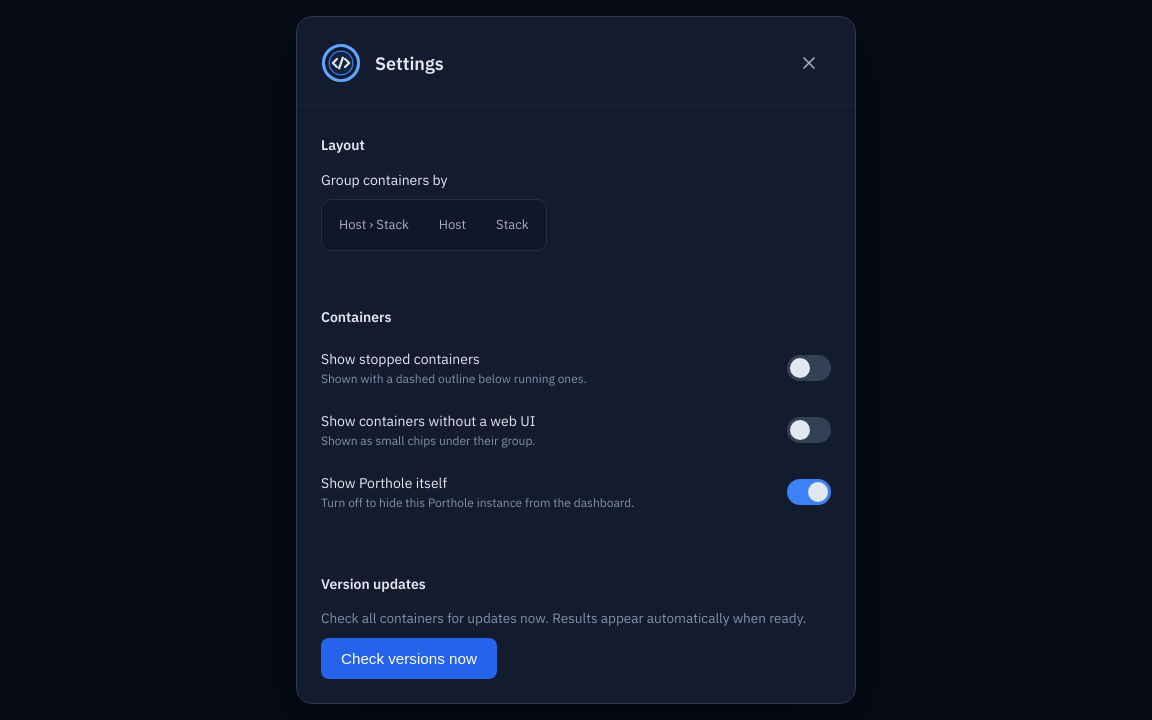
Scenario: AppSettings › shows a retryable error when starting the check fails
This screenshot has width=1152, height=720.
(page scrolled)
Click the button "Check versions now".
click(409, 658)  # box [321,638,497,679]
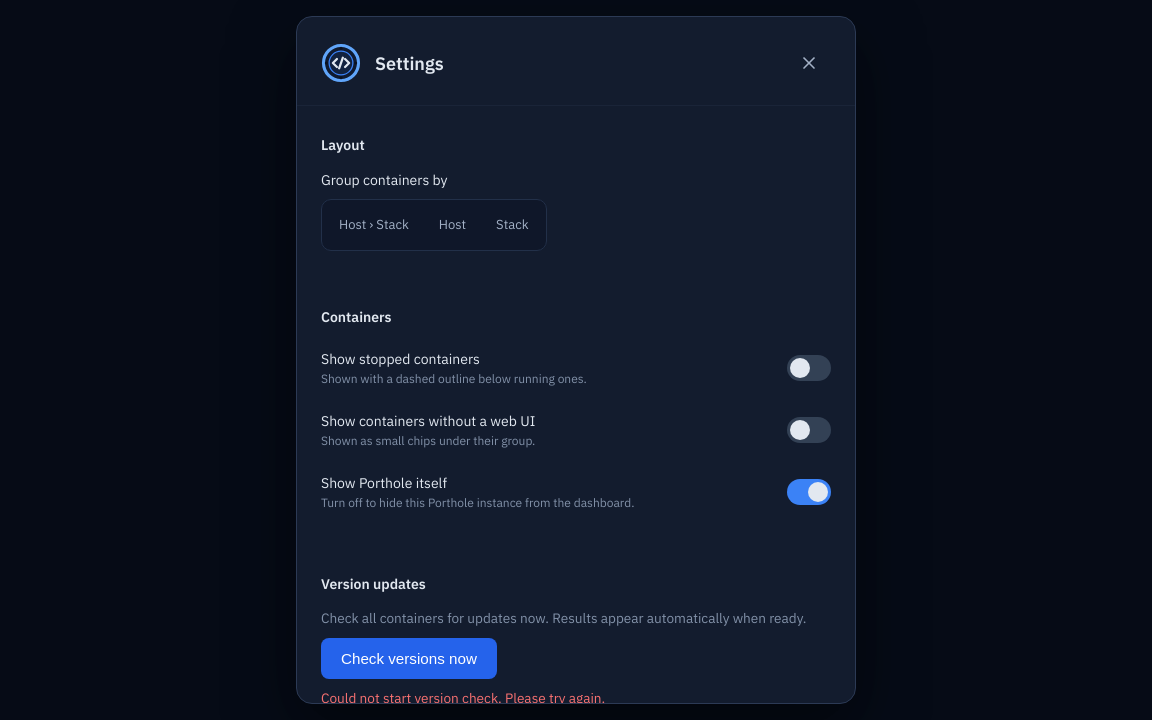
Check: the message shows "Could not start version check", box [321,689,605,703]
Click the button "Check versions now".
click(409, 658)  # box [321,638,497,679]
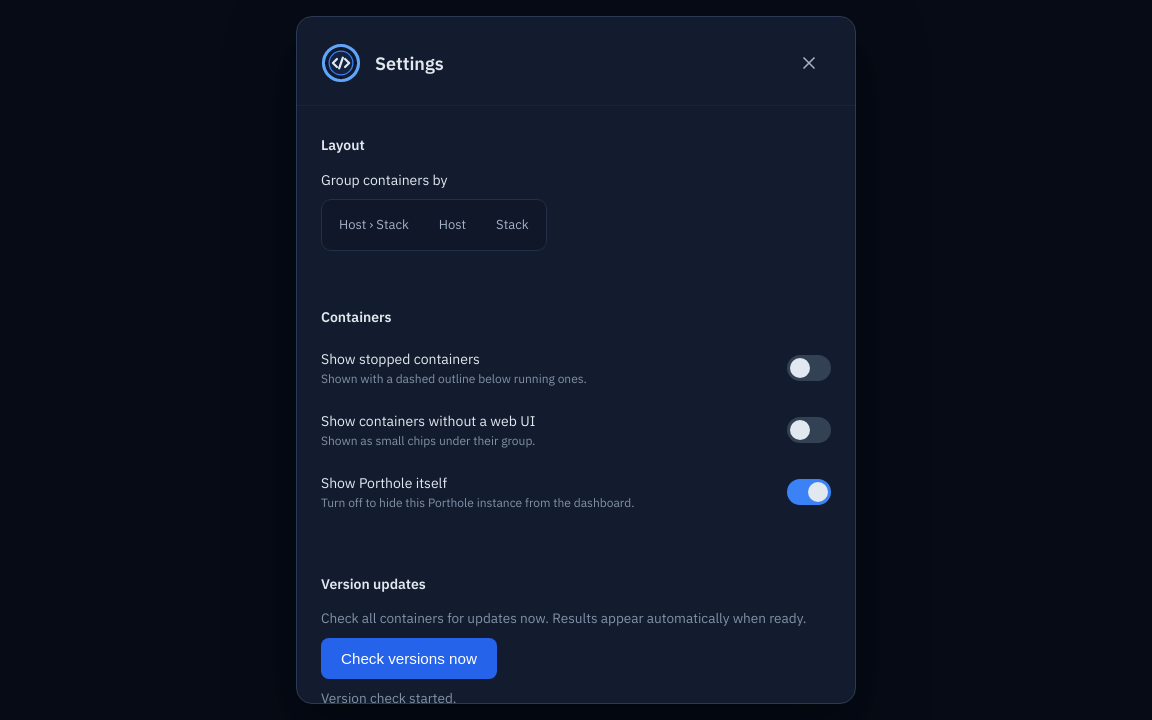
Check: the text "Version check started." is shown, box [321,689,456,703]
Check: the message "Could not start version check. Please try again." is gone
